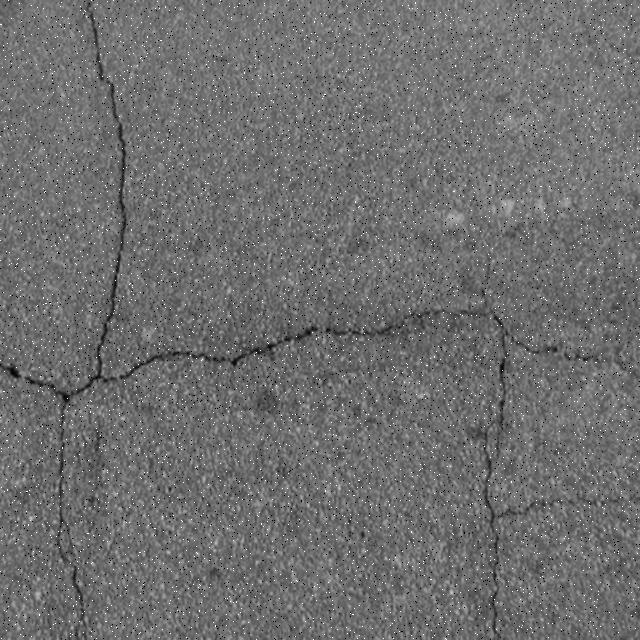Crack: (0, 59, 640, 639), (89, 0, 100, 51)
